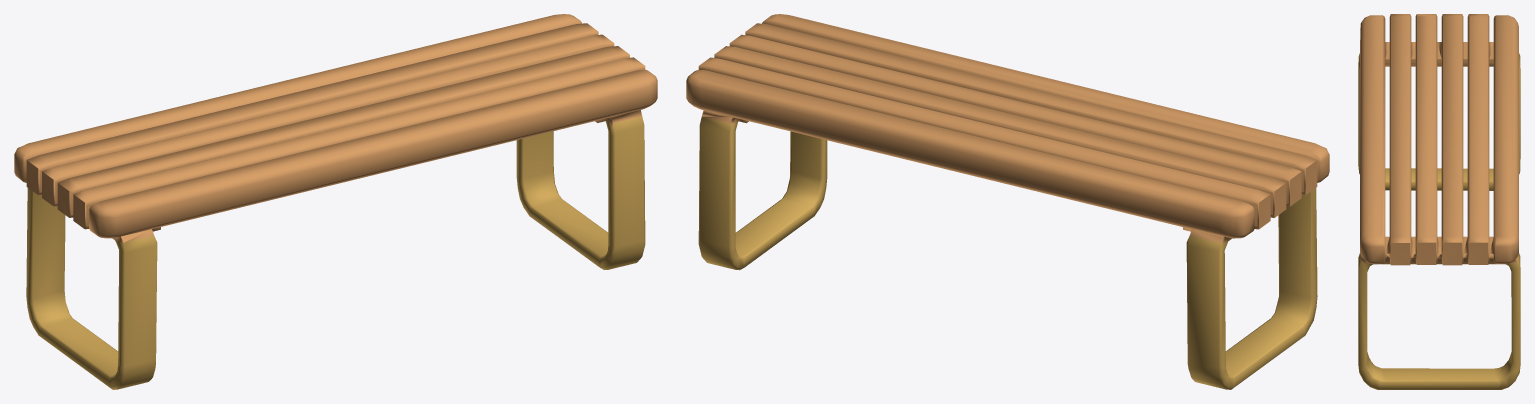
File: GJH_NEW_bench_oak.glb
The picture shows the model from 3 angles, left to right: view 1: azimuth 30°, elevation 25°; view 2: azimuth 150°, elevation 25°; view 3: azimuth 270°, elevation 25°; orthographic projection. The views are drawn at different scales.
Visible parts, largest first — view 1: GJH_NEW_bench_oak; view 2: GJH_NEW_bench_oak; view 3: GJH_NEW_bench_oak.
Part boxes in pixels (x1,y1,x2,y2): GJH_NEW_bench_oak: (14,14,657,389); GJH_NEW_bench_oak: (686,14,1329,389); GJH_NEW_bench_oak: (1358,14,1520,389).
Size of the model in its own units: 1.4 by 0.45 by 0.42.
